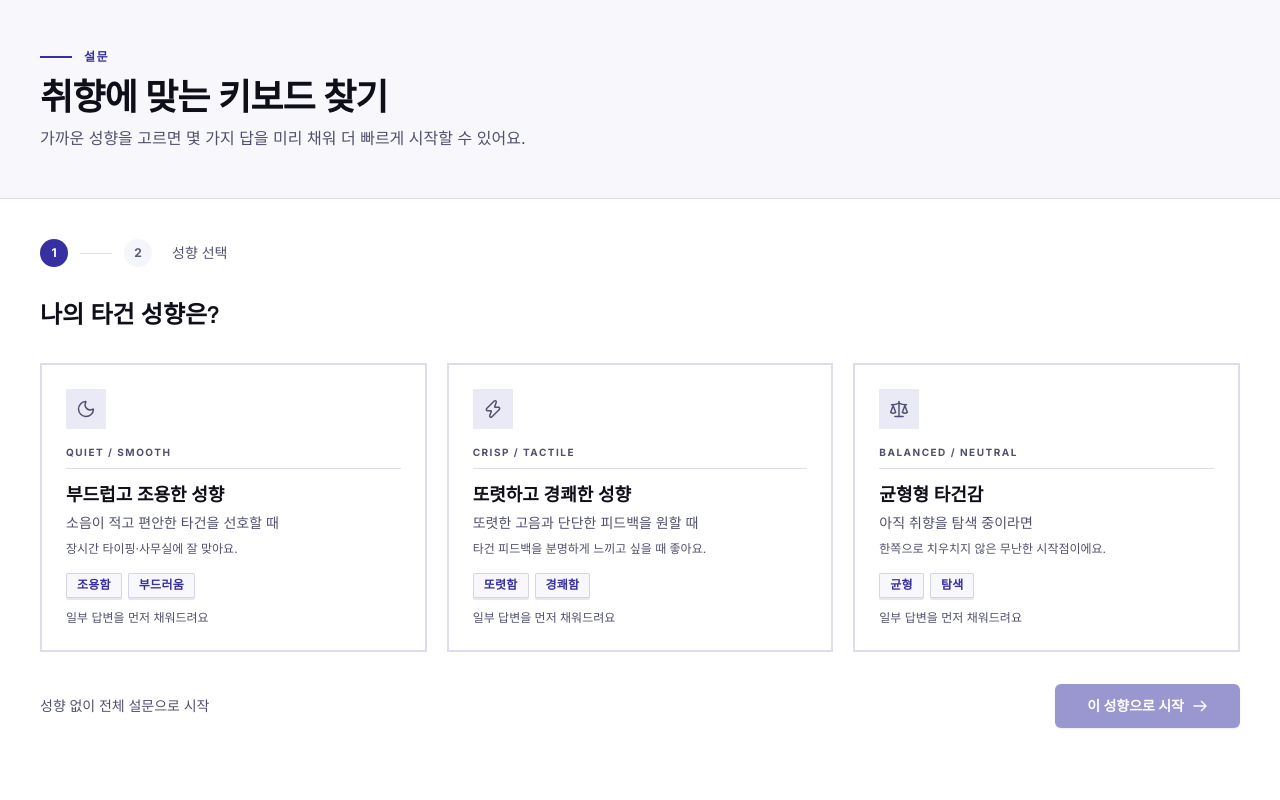
Test: SurveyWizard preset skip (Phase 3) › jumps to first unanswered step after style preset
The image size is (1280, 800).
Click the button "부드럽고 조용한 성향" at {"x": 86, "y": 409}, box top-left (40, 363), bottom-right (427, 652)
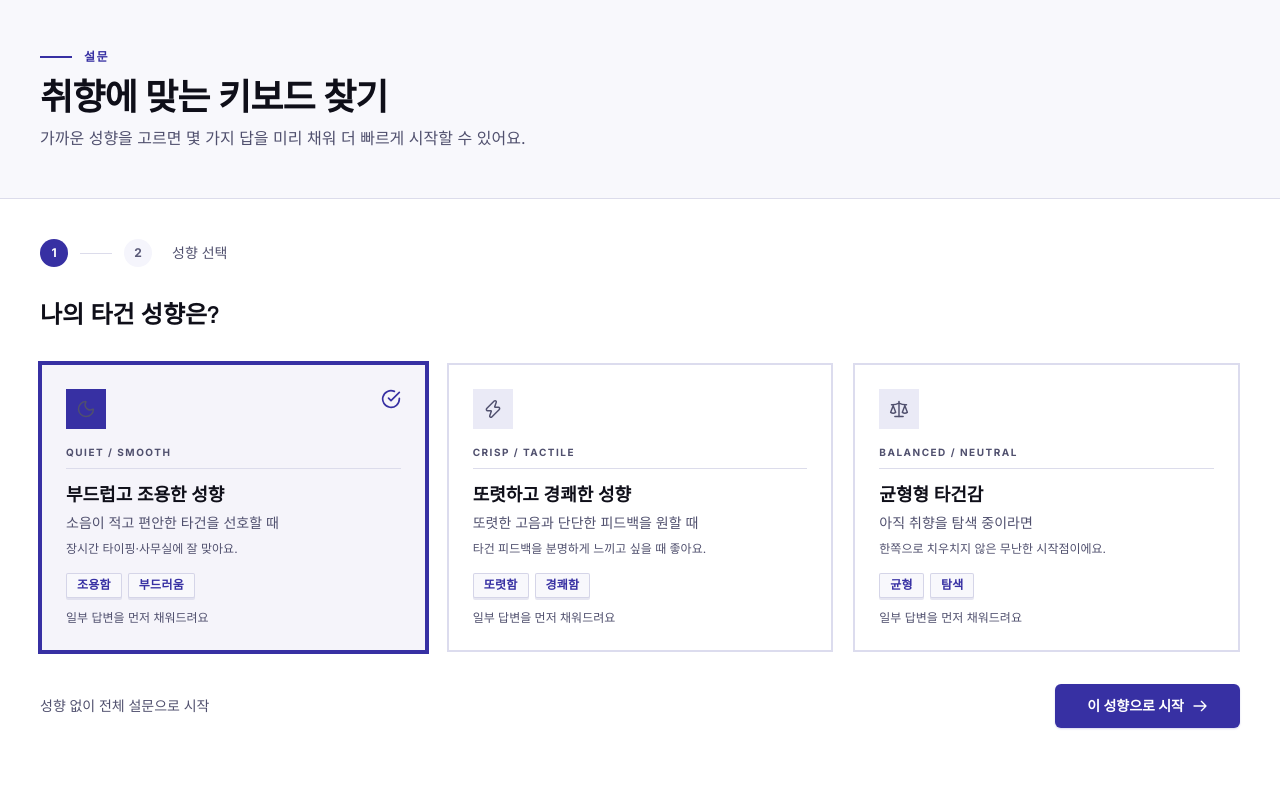
Click the button with test id "e2e-survey-start-with-style" at {"x": 1148, "y": 706}, box top-left (1055, 684), bottom-right (1240, 728)
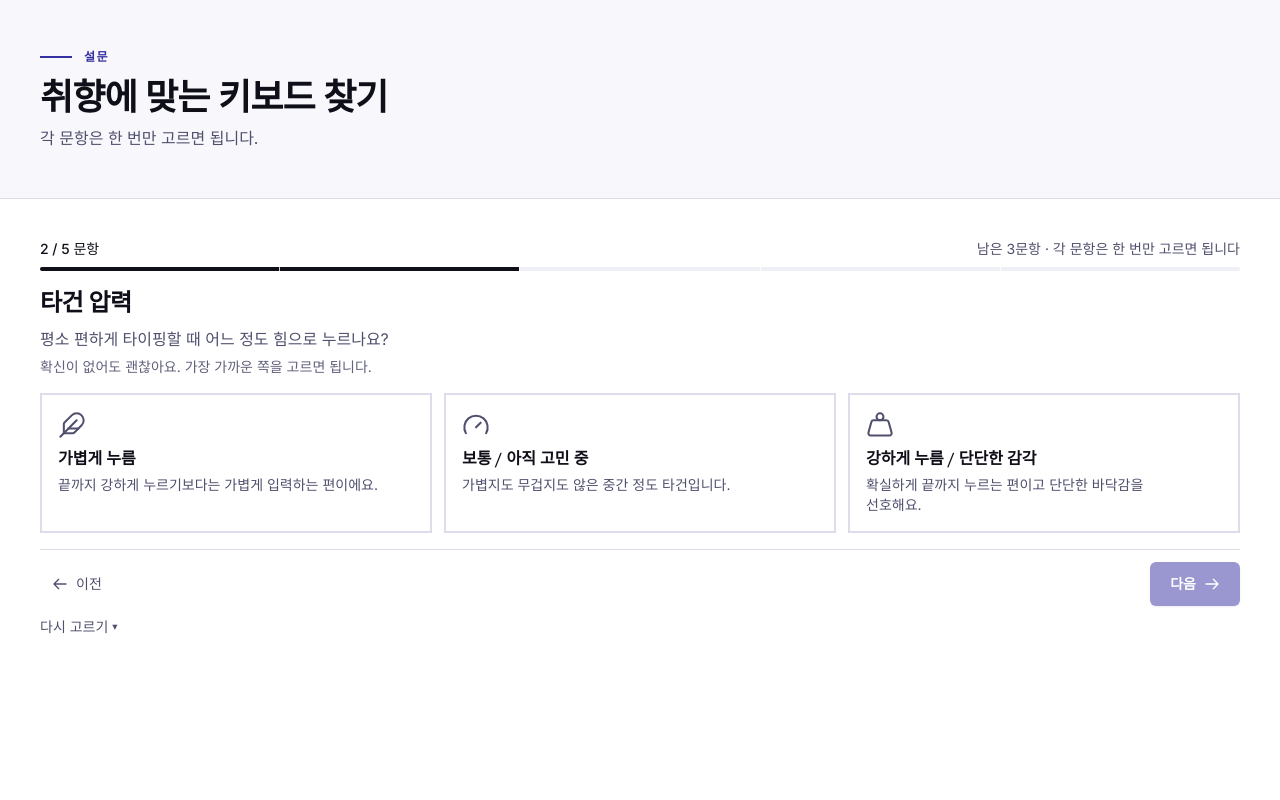
Result: the heading "타건 압력" is shown at top-left (40, 287), bottom-right (132, 318)
Result: the text "2 / 5 문항" is shown at top-left (40, 239), bottom-right (99, 259)
